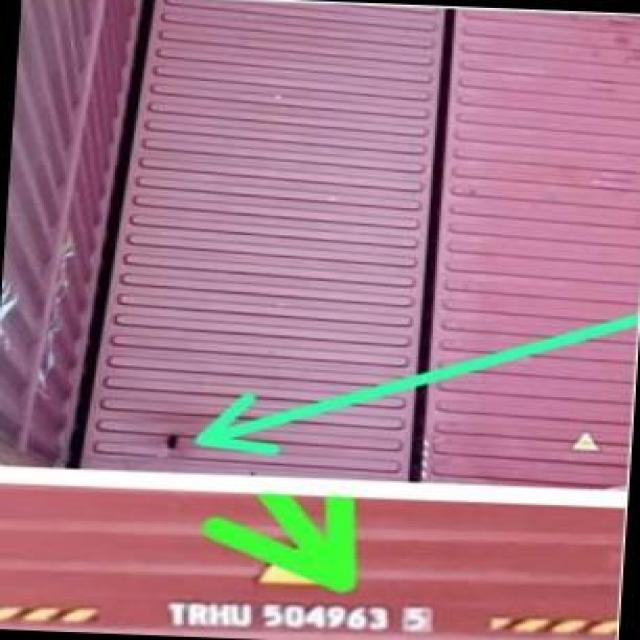hole: (164, 431, 183, 453)
